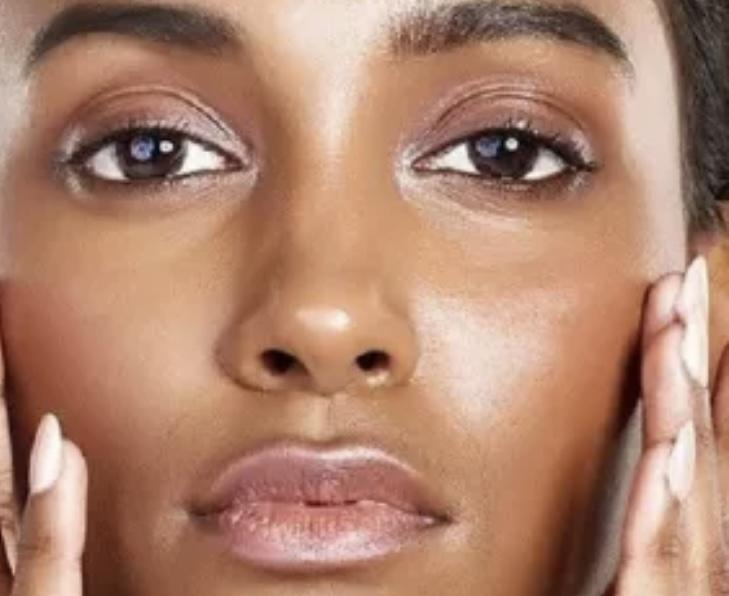Oily-Skin: (267, 18, 362, 352), (427, 247, 587, 442), (187, 473, 427, 596), (47, 212, 173, 427)
